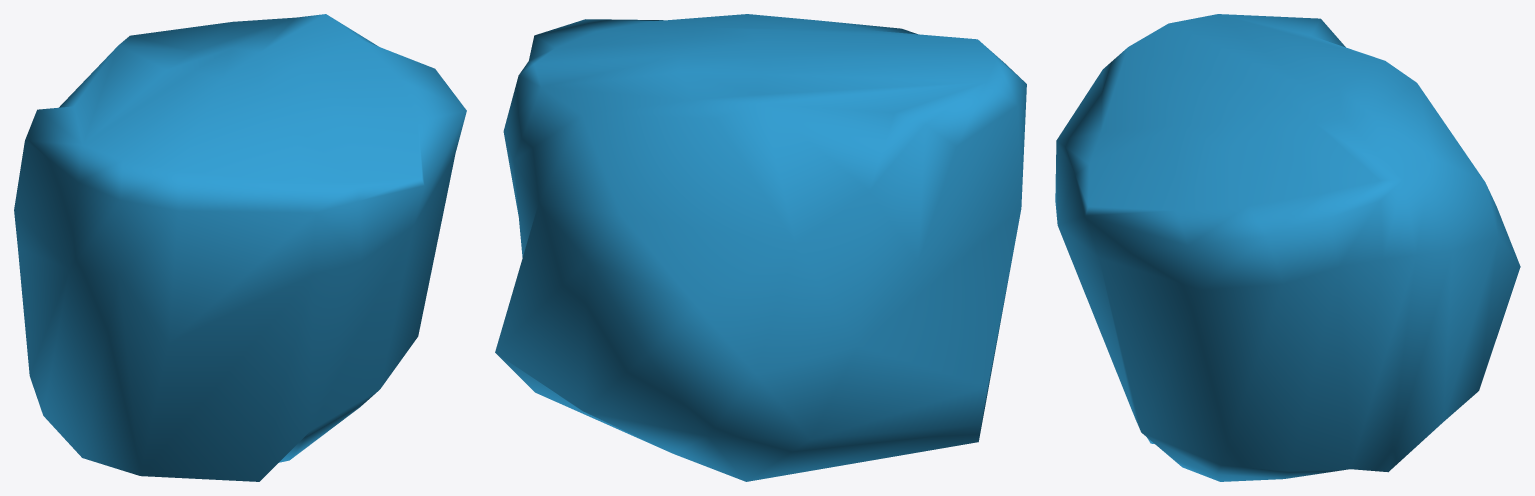
Rendered from Rock_S_02_Lod1.fbx.
The picture shows the model from 3 angles, left to right: view 1: azimuth 30°, elevation 25°; view 2: azimuth 150°, elevation 25°; view 3: azimuth 270°, elevation 25°; orthographic projection. The views are drawn at different scales.
Parts seen in each view (by area): view 1: Rock_S_02_Lod1; view 2: Rock_S_02_Lod1; view 3: Rock_S_02_Lod1.
Part boxes in pixels (<box>): Rock_S_02_Lod1: <box>14,14,466,481</box>; Rock_S_02_Lod1: <box>495,14,1026,481</box>; Rock_S_02_Lod1: <box>1055,14,1520,481</box>.
Size of the model in its own units: 520 by 444 by 506.
